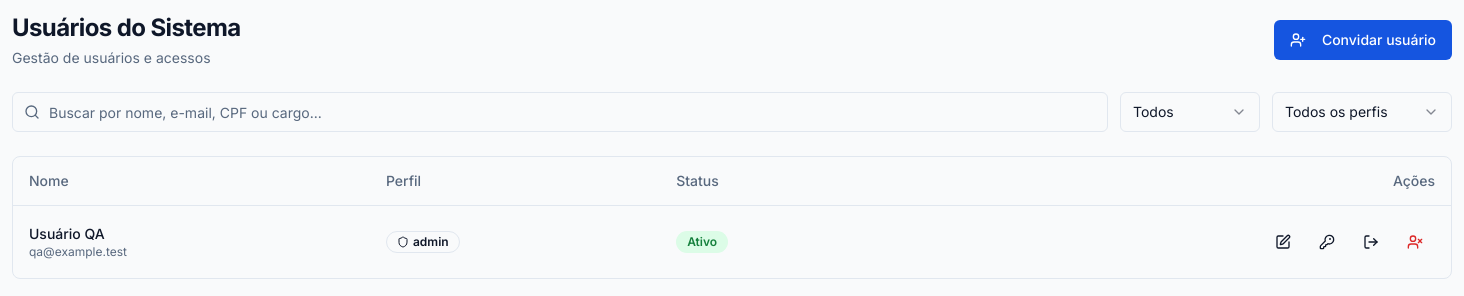
AdminUsersPage › encerra globalmente as sessões após confirmação
Step 1. Click the button titled "Encerrar todas as sessões" → {"x": 1371, "y": 242}, box [1351,222,1391,262]
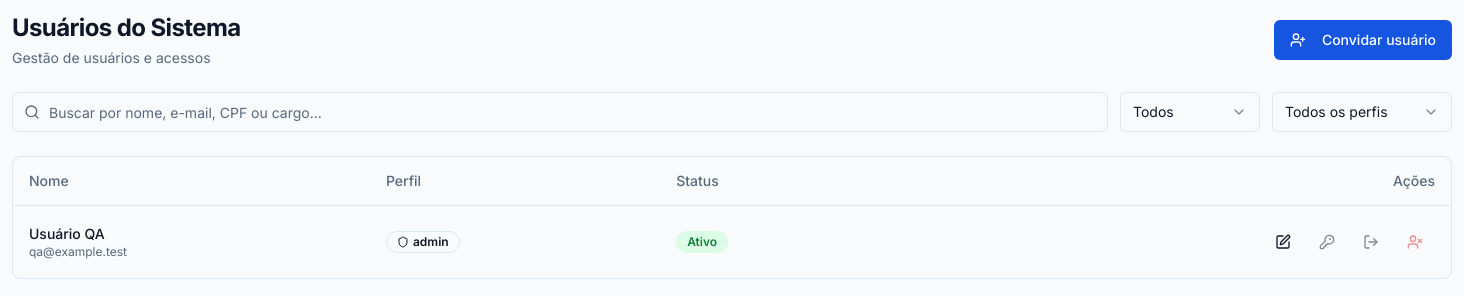
Check: the button titled "Encerrar todas as sessões" is disabled, box [1351,222,1391,262]
